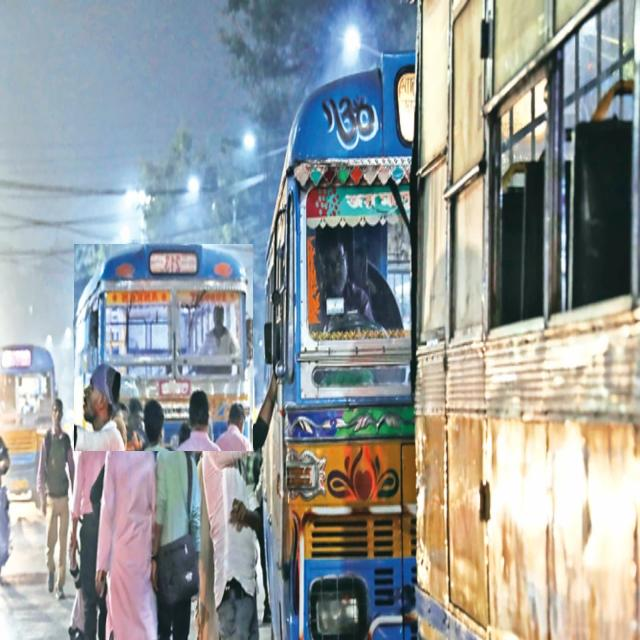bus: (410, 0, 640, 638), (262, 51, 419, 638), (75, 245, 253, 451), (0, 344, 56, 498)
